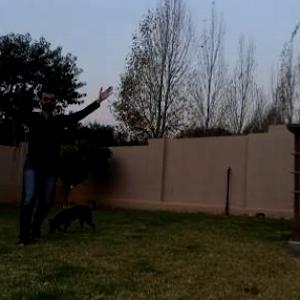takeoff: (0, 84, 117, 254)
